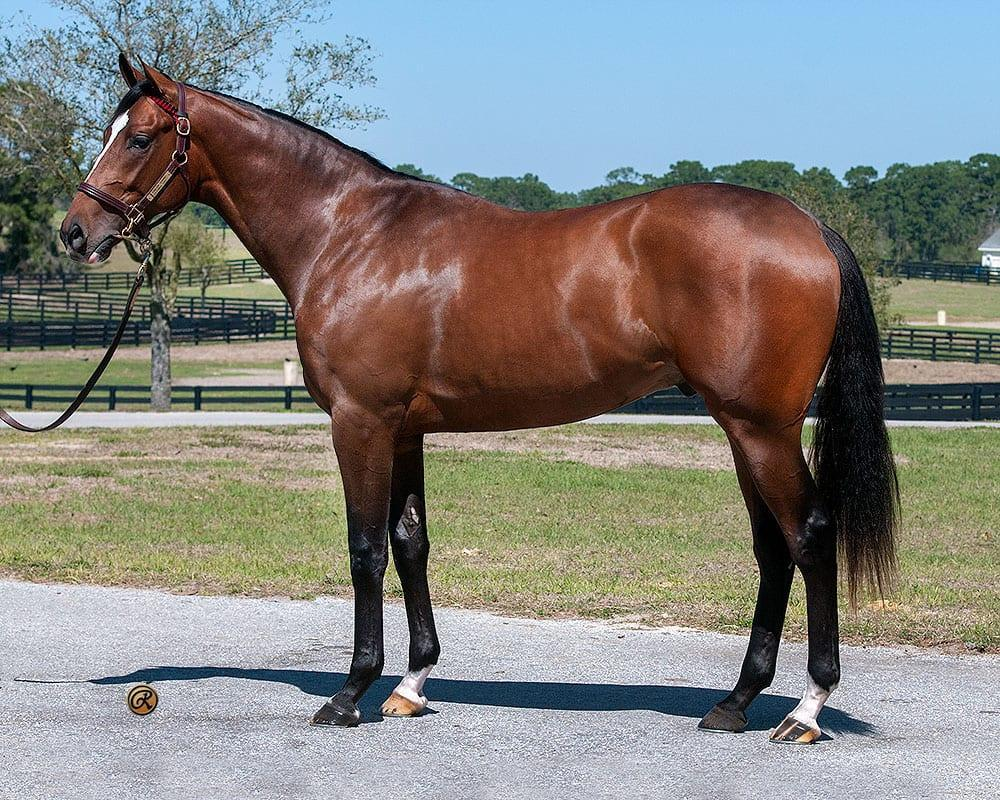horse: (50, 39, 916, 756)
